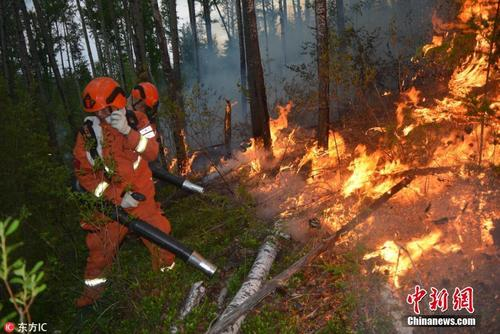fire: (244, 122, 500, 206), (427, 1, 498, 117), (374, 231, 438, 279)
smoke: (189, 24, 309, 115), (326, 7, 410, 91)
